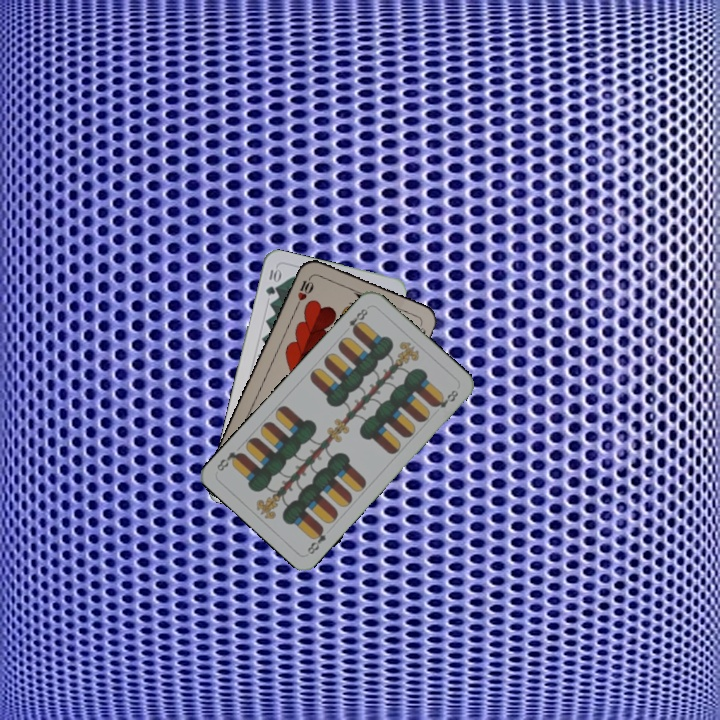E8: (303, 523, 328, 557), (345, 304, 370, 336)
G10: (262, 265, 283, 298)
H10: (292, 271, 316, 310)
